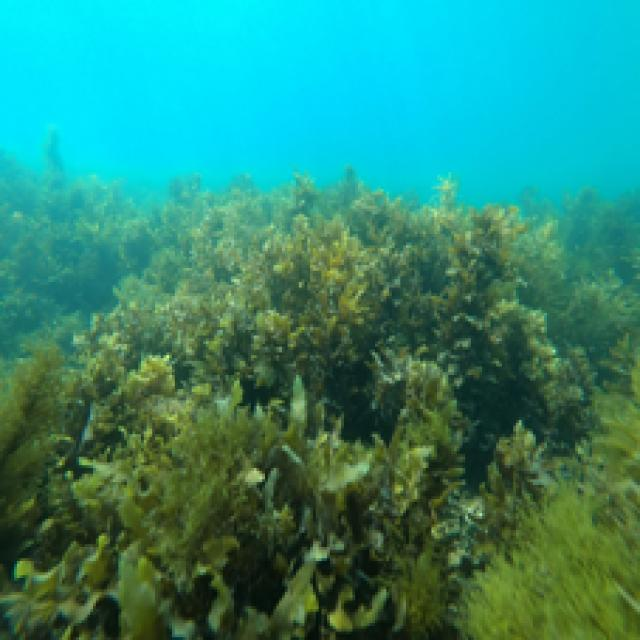Healthy: (4, 156, 638, 486), (1, 351, 461, 638), (463, 356, 638, 638)
